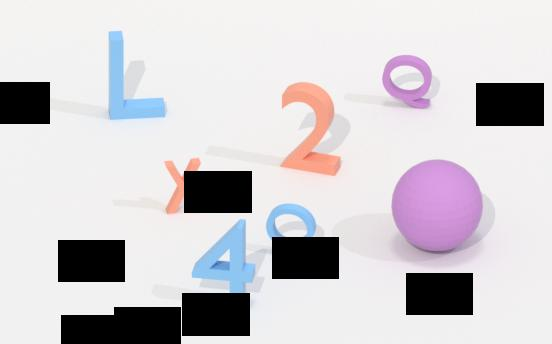2: (278, 75, 345, 181)
4: (190, 219, 257, 312)
Y: (163, 155, 207, 217)
cau: (392, 158, 486, 251)
l: (101, 26, 173, 127)
q: (261, 203, 322, 260), (378, 55, 439, 112)
